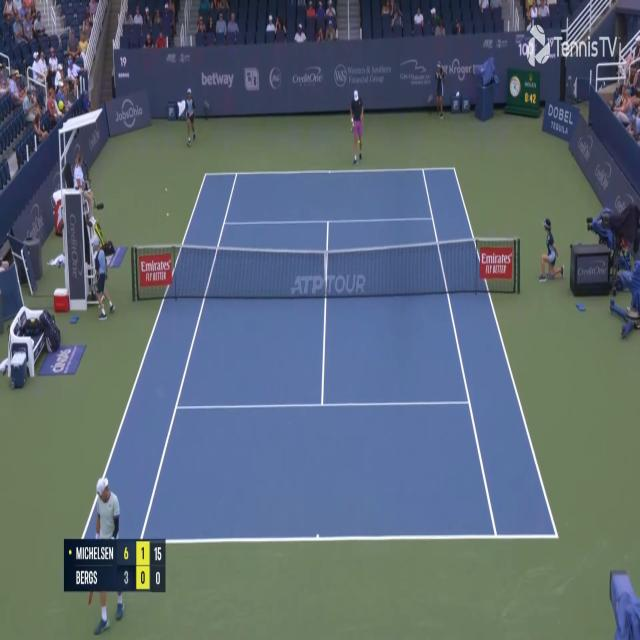tennis-player: (88, 469, 126, 637), (347, 87, 366, 166)
